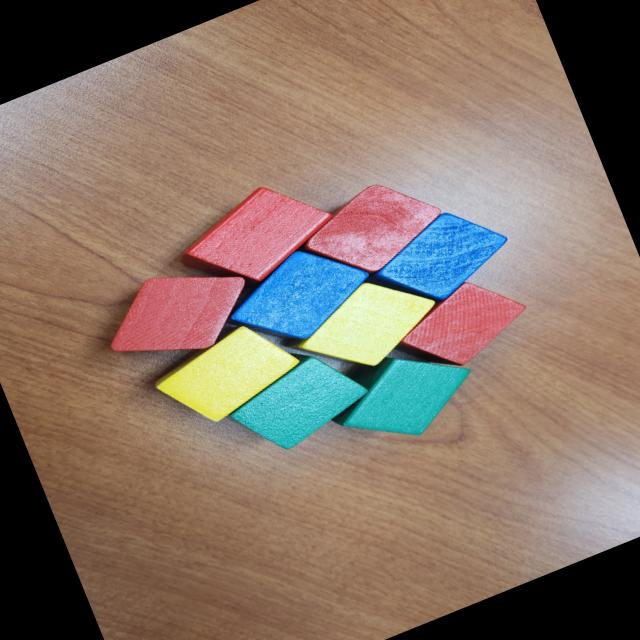blue: (214, 228, 383, 364), (355, 194, 519, 324)
green: (312, 322, 483, 464), (217, 328, 383, 466)
red: (168, 166, 344, 304), (92, 245, 263, 380), (291, 165, 452, 292), (380, 264, 540, 388)
yellow: (270, 259, 452, 396), (144, 310, 310, 440)
